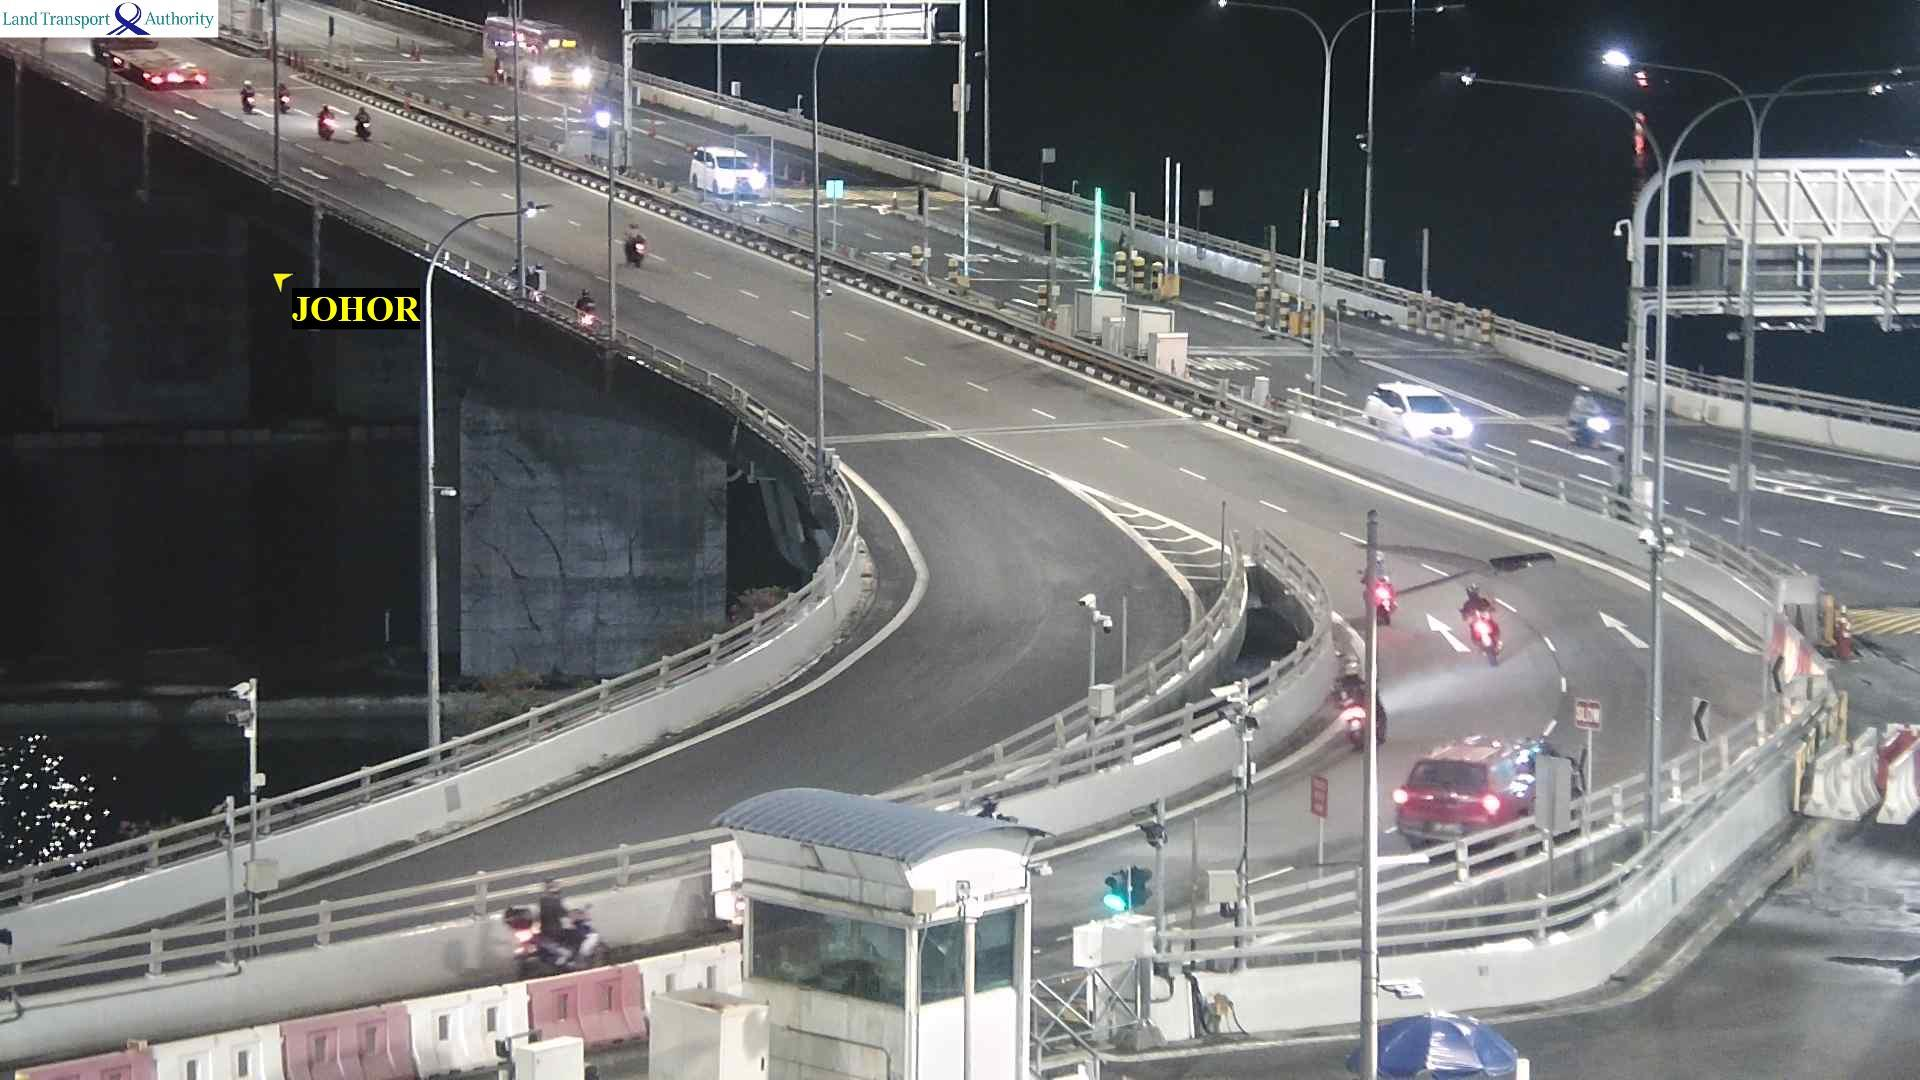vehicle-secondlink-johor: (1395, 731, 1577, 848), (504, 878, 609, 977), (91, 41, 207, 88), (1337, 663, 1387, 750), (1457, 585, 1510, 662), (1361, 556, 1396, 625), (508, 261, 551, 295), (576, 282, 596, 336), (232, 76, 257, 113), (624, 223, 645, 266), (311, 107, 334, 138), (355, 102, 372, 137), (280, 82, 291, 108)
vehicle-secondlink-singapore: (480, 15, 591, 94), (1361, 376, 1473, 450), (688, 138, 766, 200), (1567, 380, 1613, 444)
